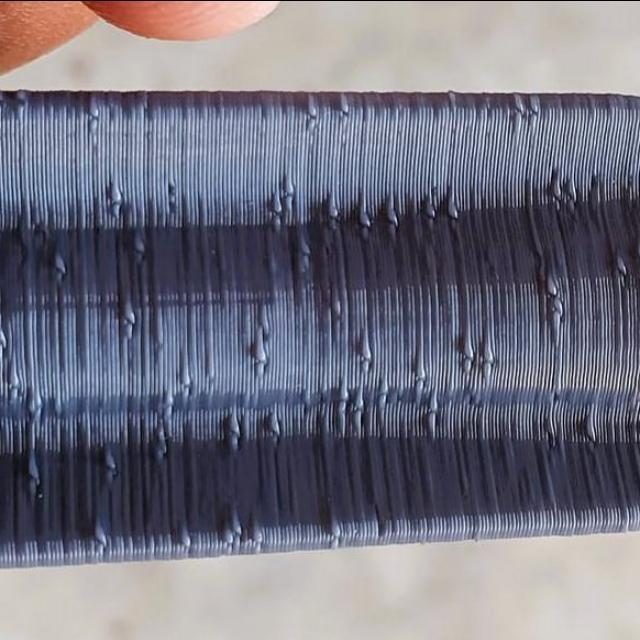zits: (218, 505, 248, 543), (18, 386, 46, 426), (225, 414, 249, 450), (175, 521, 202, 549), (102, 178, 125, 208), (350, 205, 376, 231), (118, 307, 140, 337), (355, 334, 377, 362), (420, 414, 448, 436), (478, 355, 502, 379), (85, 104, 109, 128), (409, 362, 435, 384), (268, 412, 290, 438), (102, 446, 123, 472), (250, 340, 268, 370), (280, 166, 299, 194), (566, 174, 585, 202), (48, 252, 71, 275), (322, 194, 344, 218), (381, 201, 403, 225), (152, 438, 176, 460), (582, 413, 598, 445), (476, 344, 498, 367), (611, 256, 633, 279), (88, 521, 106, 549), (303, 104, 321, 132), (538, 274, 558, 299), (178, 368, 198, 393), (548, 175, 566, 202), (550, 305, 568, 331), (265, 196, 285, 218), (422, 390, 444, 410), (323, 520, 343, 542), (136, 231, 150, 261), (459, 334, 475, 360), (161, 385, 177, 411), (448, 197, 463, 224), (457, 356, 475, 378), (374, 384, 392, 406), (424, 197, 438, 224), (354, 389, 368, 412), (334, 385, 348, 407)
